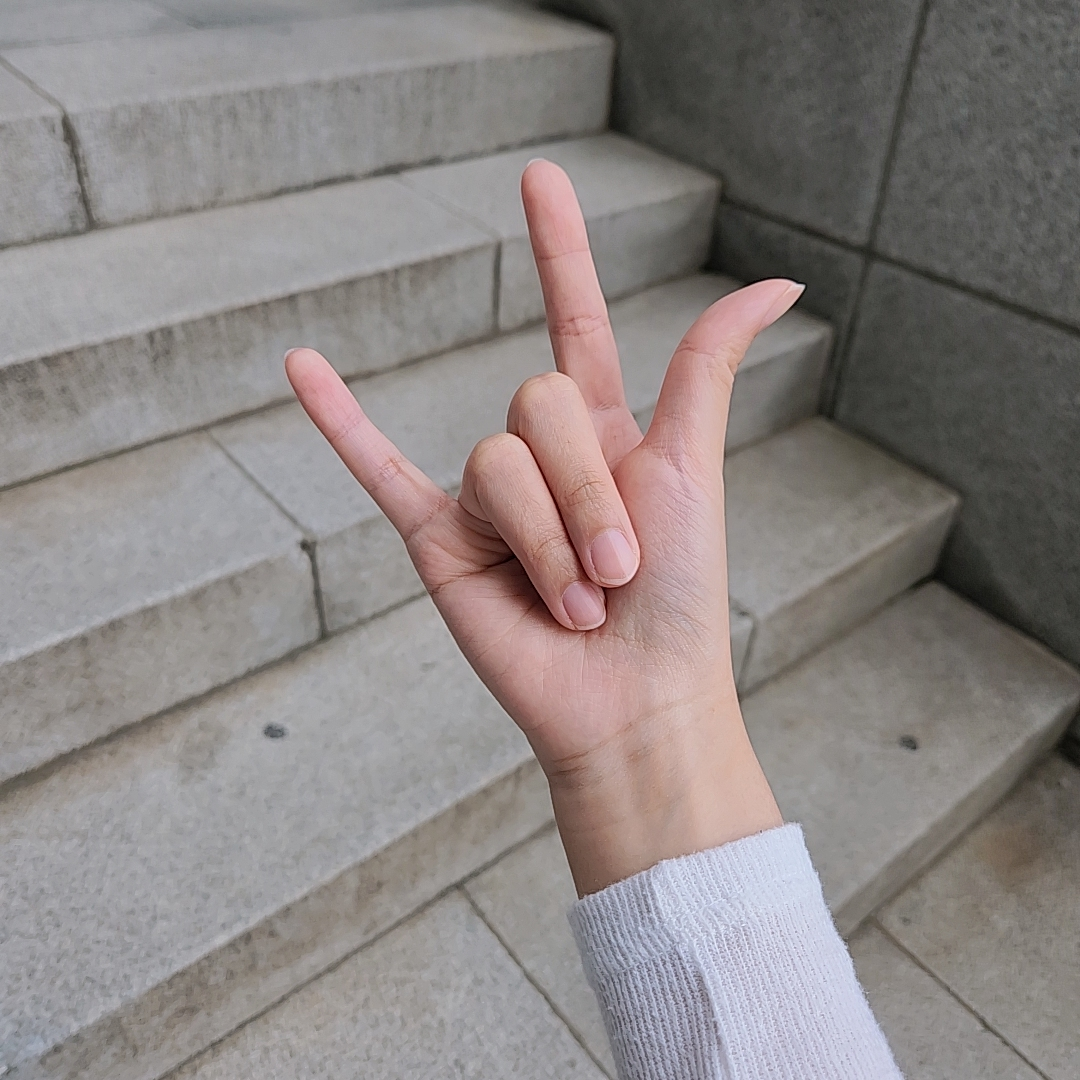iloveyou: (282, 156, 806, 732)
